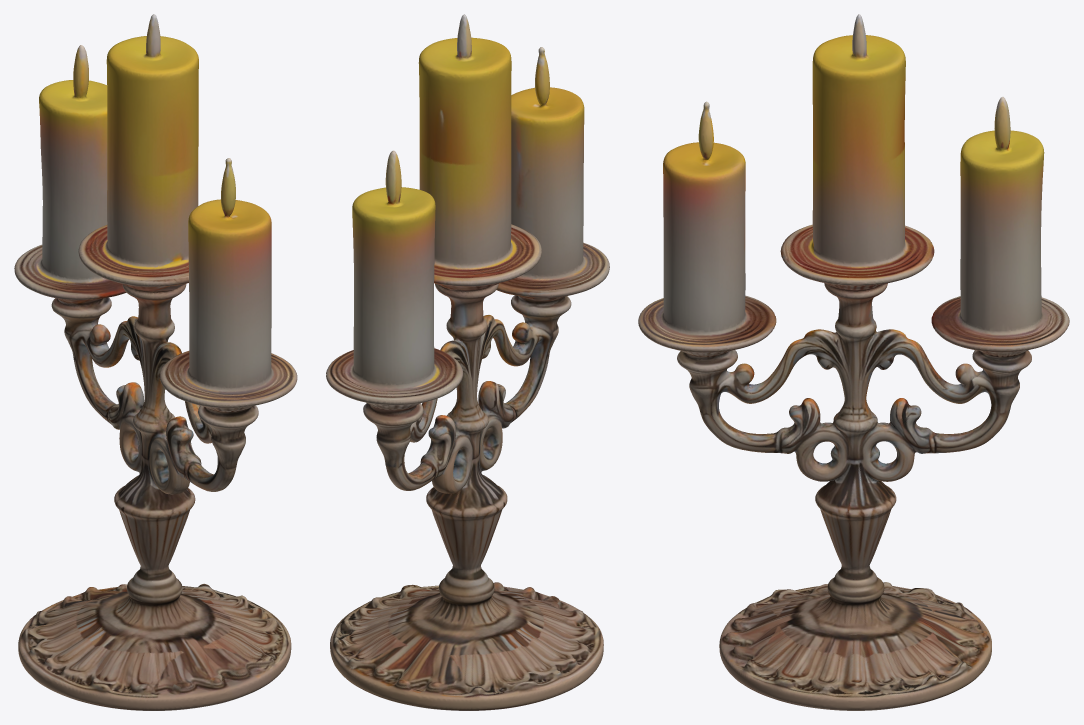
Rendered from candle-04.glb.
The picture shows the model from 3 angles, left to right: view 1: azimuth 30°, elevation 25°; view 2: azimuth 150°, elevation 25°; view 3: azimuth 270°, elevation 25°; orthographic projection.
Visible parts, largest first — view 1: tripo_node_8fb2337c-9bca-49bb-a74b-52511b7741c3; view 2: tripo_node_8fb2337c-9bca-49bb-a74b-52511b7741c3; view 3: tripo_node_8fb2337c-9bca-49bb-a74b-52511b7741c3.
Part boxes in pixels (x1=…): tripo_node_8fb2337c-9bca-49bb-a74b-52511b7741c3: x1=14, y1=14, x2=297, y2=710; tripo_node_8fb2337c-9bca-49bb-a74b-52511b7741c3: x1=326, y1=14, x2=609, y2=710; tripo_node_8fb2337c-9bca-49bb-a74b-52511b7741c3: x1=638, y1=14, x2=1069, y2=710.
Bounding box in the file's own units: 0.3639 × 0.9486 × 0.574.
Materials: 1 (1 with a texture image).
